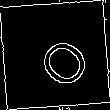O_NW: (21, 22, 89, 88)
